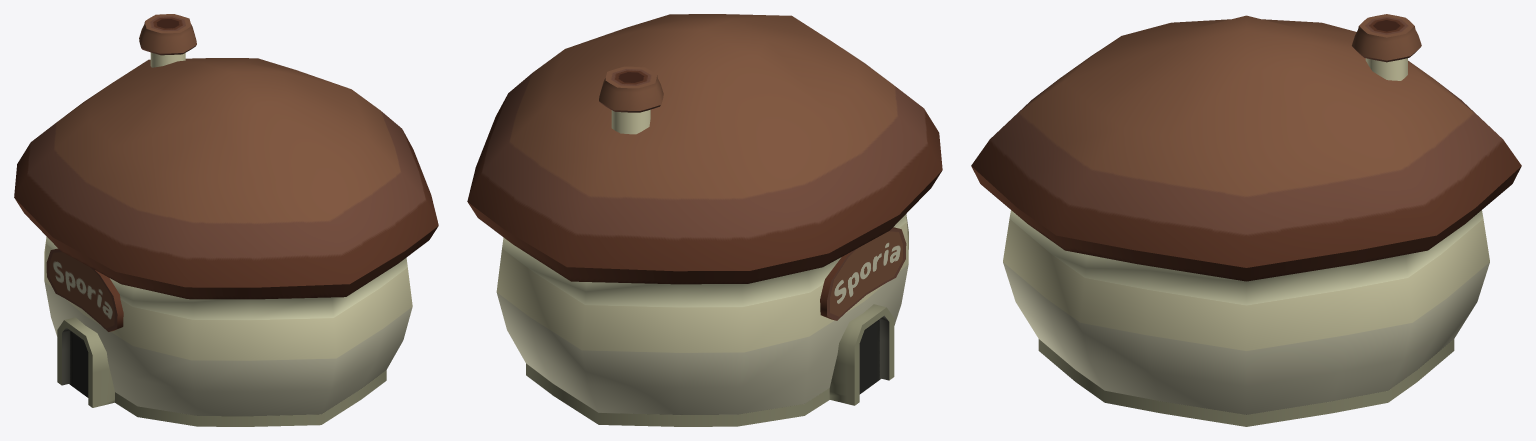
Rendered from Sporia_farmhouse.fbx.
The picture shows the model from 3 angles, left to right: view 1: azimuth 30°, elevation 25°; view 2: azimuth 150°, elevation 25°; view 3: azimuth 270°, elevation 25°; orthographic projection. The views are drawn at different scales.
Parts seen in each view (by area): view 1: polySurface39; view 2: polySurface39; view 3: polySurface39.
Boxes of the visible parts, bbox=[...] form: polySurface39: bbox=[14, 14, 438, 426]; polySurface39: bbox=[467, 14, 942, 426]; polySurface39: bbox=[971, 14, 1521, 426].
Bounding box in the file's own units: 2.35 × 1.8 × 2.76.
Materials: 4 (4 with a texture image).
